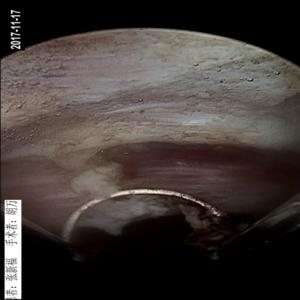film: (97, 129, 289, 193)
